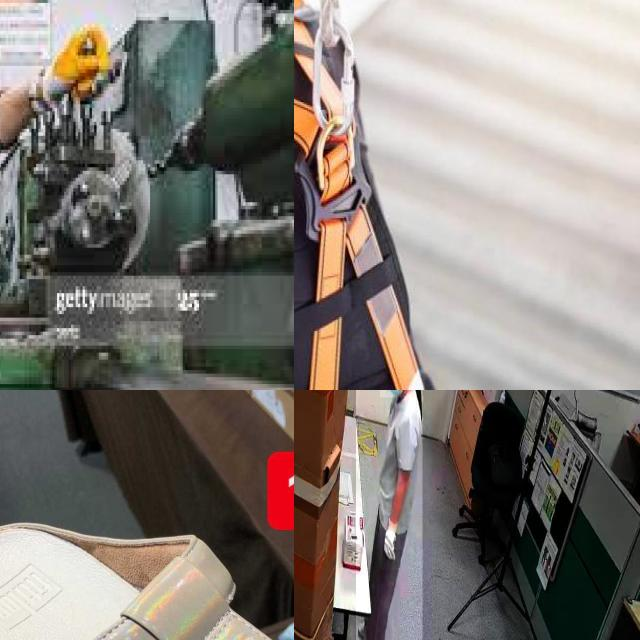Harness: (294, 0, 429, 390)
Sandals: (0, 484, 294, 640)
hand_glove: (37, 25, 115, 109), (380, 521, 400, 571)
person: (0, 0, 115, 390), (356, 390, 423, 640)
